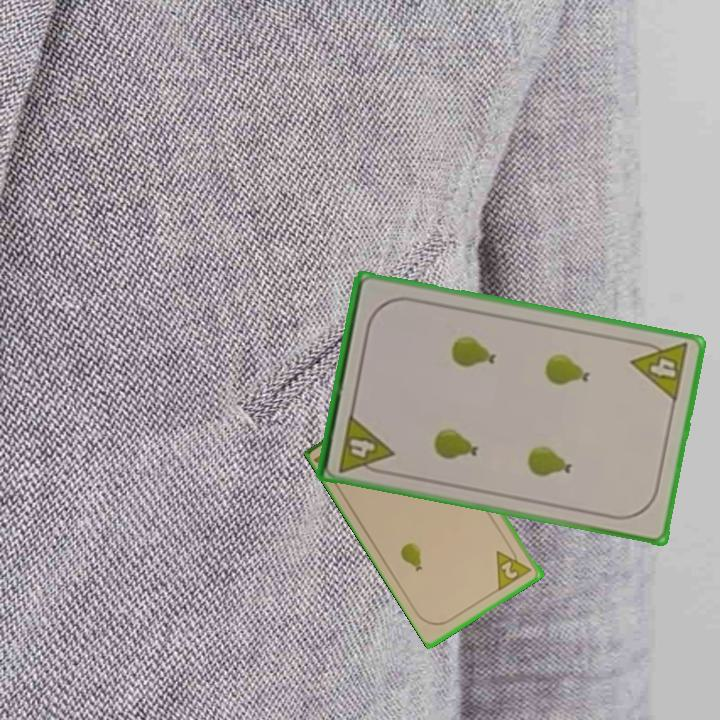2p: (493, 541, 536, 593)
4p: (627, 336, 692, 405), (335, 410, 396, 478)
